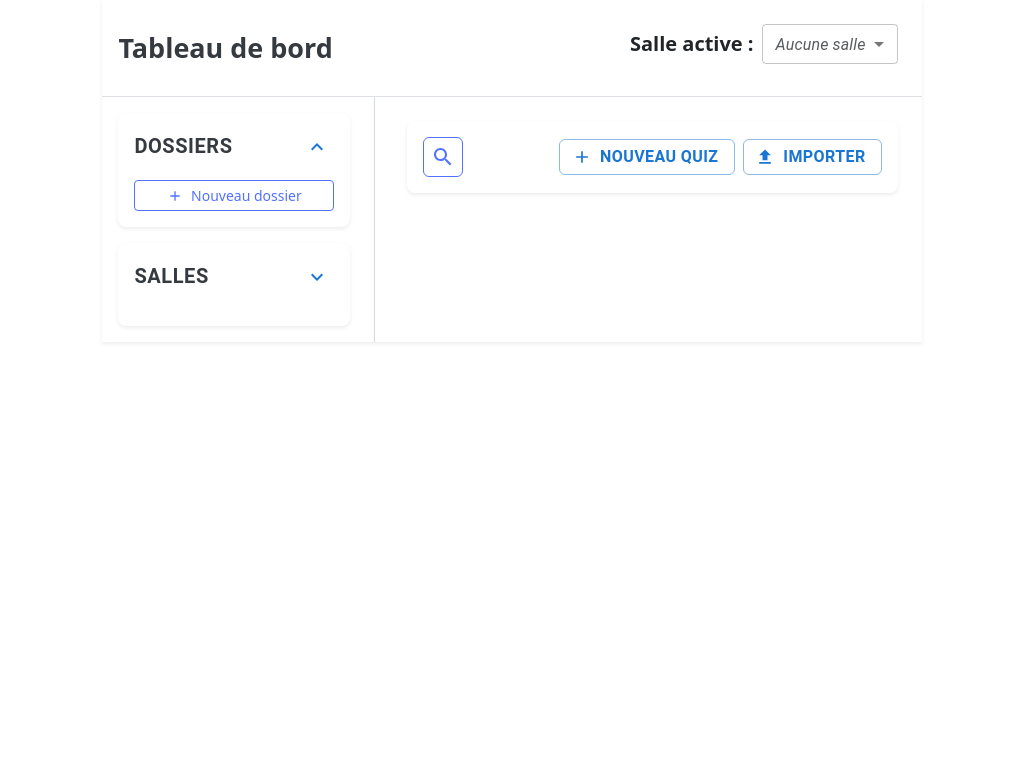
Test: DashboardV2 Component › Search Functionality › should filter quizzes based on search term
This screenshot has width=1024, height=768.
Click the button with test id "SearchIcon" at (444, 157), box [424,137,464,177]
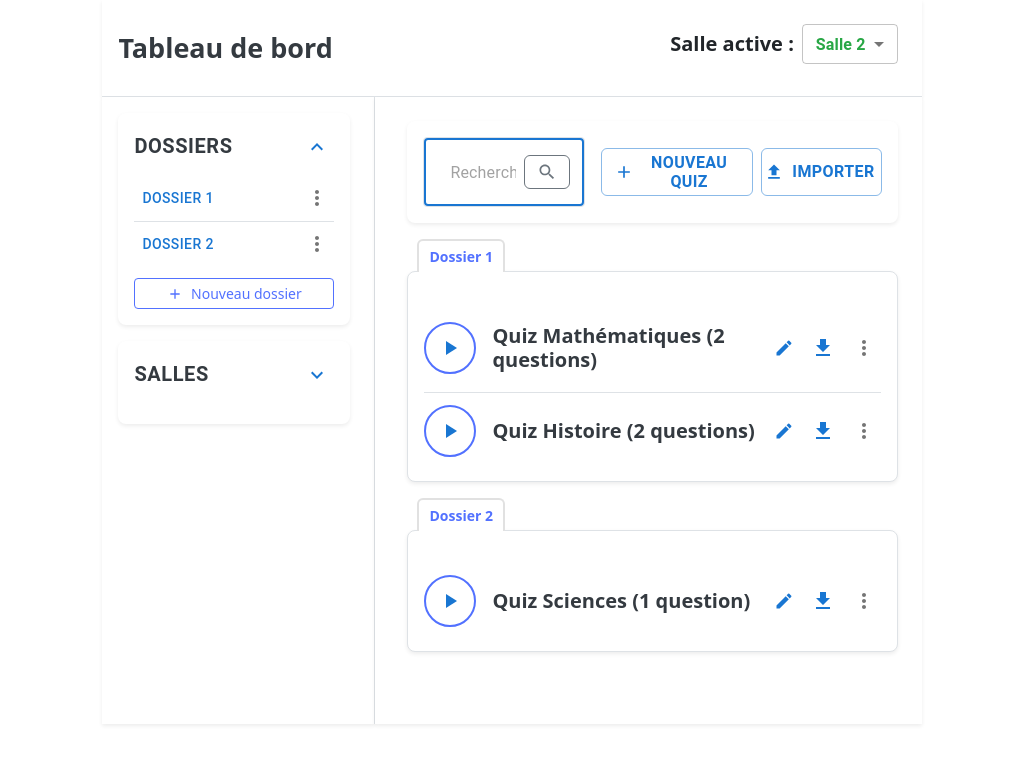
Type "Mathématiques" into the field with placeholder "Rechercher un quiz" at (476, 172), box [436,144,516,200]
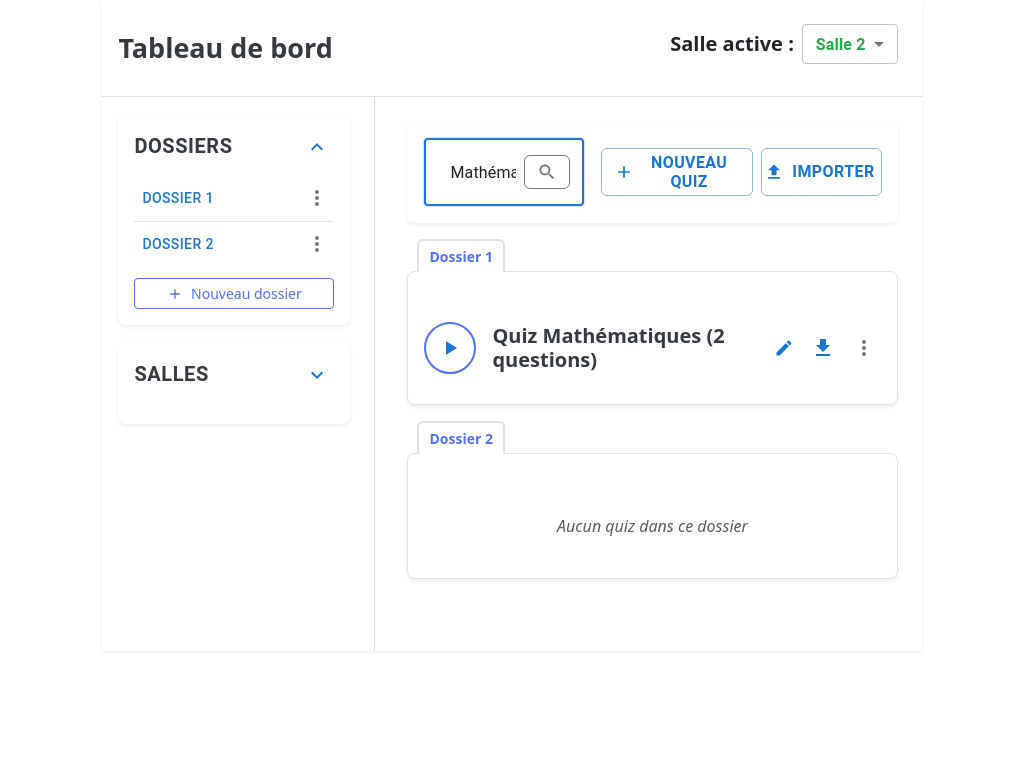
expect the text "Quiz Mathématiques (2 questions)" is shown: met, box [492,322,725,373]
expect the text "Quiz Histoire (2 questions)" is gone: met
expect the text "Quiz Sciences (1 question)" is gone: met
